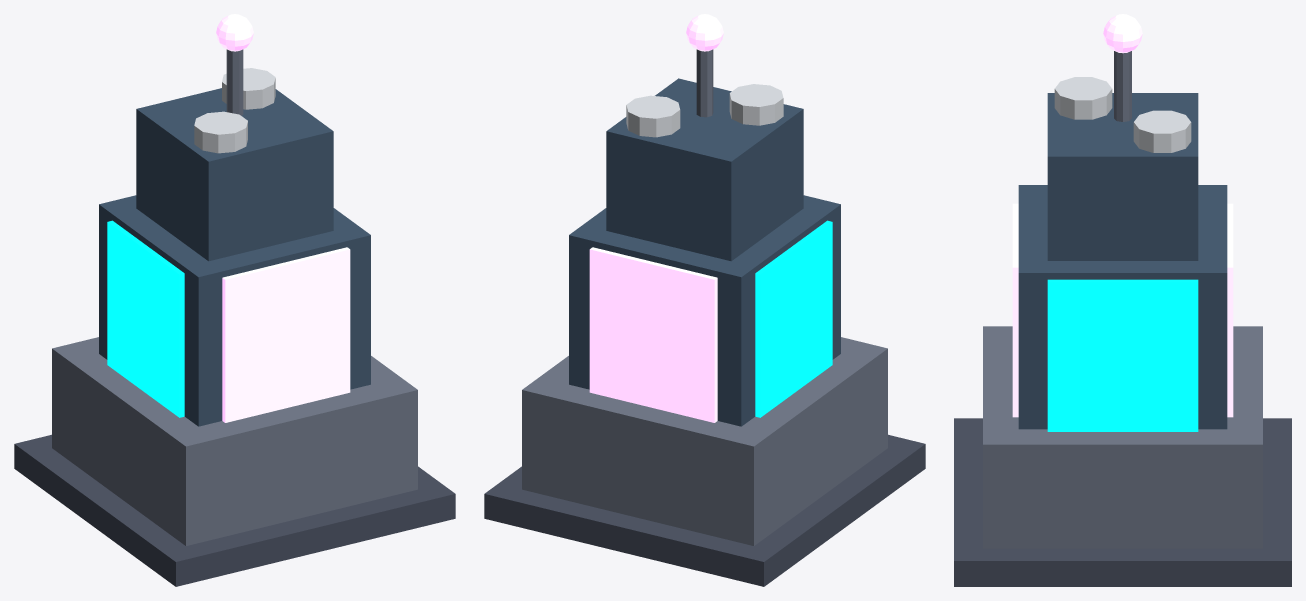
Rendered from landmark_compute_exchange.glb.
3 renders of one model, left to right at view 1: azimuth 30°, elevation 25°; view 2: azimuth 150°, elevation 25°; view 3: azimuth 270°, elevation 25°, orthographic. The views are drawn at different scales.
Visible parts, largest first — view 1: podium, top_tower, VioletBus_-1, plinth, mid_tower, CyanBus_-1, turbine_a, turbine_b, spire, Beacon; view 2: podium, top_tower, VioletBus_1, plinth, mid_tower, CyanBus_-1, turbine_b, turbine_a, spire, Beacon; view 3: podium, CyanBus_1, top_tower, plinth, mid_tower, turbine_a, turbine_b, VioletBus_1, VioletBus_-1, spire, Beacon.
Boxes of the visible parts, box(x1,y1,x2,y2) form: podium: box(52, 337, 417, 545); top_tower: box(136, 88, 333, 261); VioletBus_-1: box(222, 247, 350, 422); plinth: box(14, 434, 455, 586); mid_tower: box(99, 195, 370, 426); CyanBus_-1: box(107, 220, 184, 417); turbine_a: box(194, 111, 247, 153); turbine_b: box(222, 68, 275, 109); spire: box(226, 49, 243, 115); Beacon: box(216, 14, 253, 51); podium: box(522, 337, 887, 545); top_tower: box(606, 78, 803, 261); VioletBus_1: box(589, 247, 717, 422); plinth: box(484, 434, 925, 586); mid_tower: box(569, 195, 840, 426); CyanBus_-1: box(755, 220, 832, 417); turbine_b: box(626, 95, 680, 137); turbine_a: box(729, 84, 783, 125); spire: box(696, 49, 713, 117); Beacon: box(686, 14, 723, 51); podium: box(983, 326, 1262, 548); CyanBus_1: box(1047, 279, 1198, 431); top_tower: box(1047, 93, 1198, 260); plinth: box(954, 418, 1291, 586); mid_tower: box(1018, 185, 1227, 429); turbine_a: box(1054, 77, 1112, 119); turbine_b: box(1133, 110, 1191, 152); VioletBus_1: box(1227, 203, 1233, 417); VioletBus_-1: box(1012, 203, 1018, 417); spire: box(1114, 51, 1131, 121); Beacon: box(1103, 14, 1142, 53).
Size of the model in its own units: 0.94 by 1.54 by 0.94.
